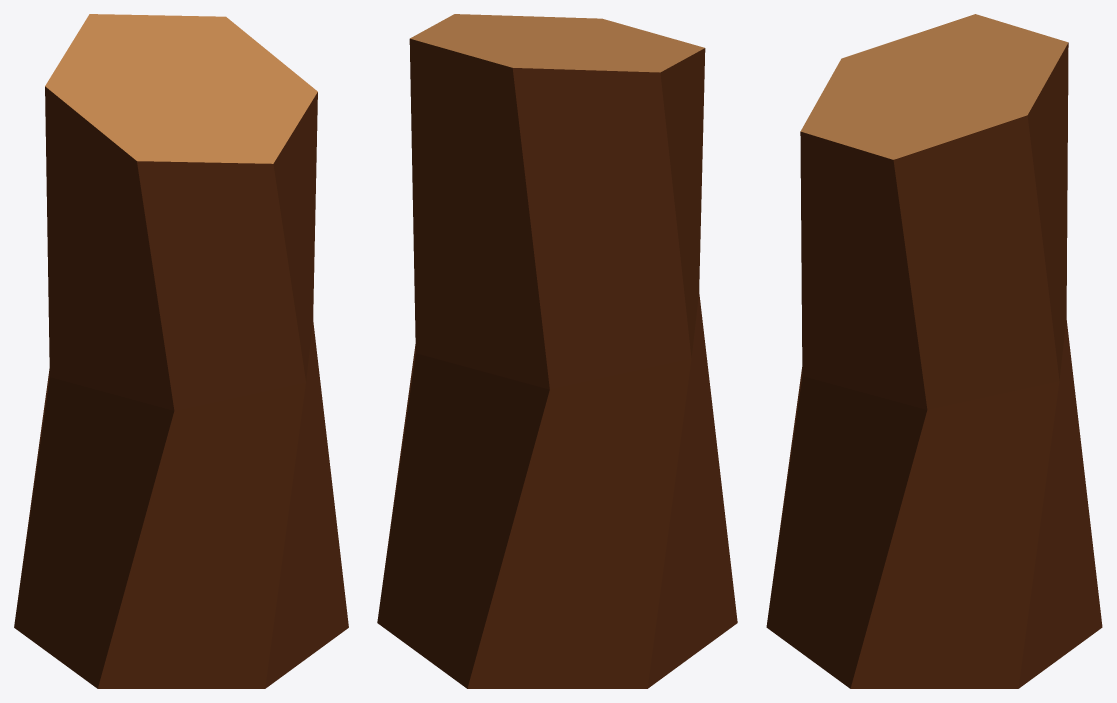
Rendered from TreeStump3.fbx.
3 views of the same model, side by side, from view 1: azimuth 30°, elevation 25°; view 2: azimuth 150°, elevation 25°; view 3: azimuth 270°, elevation 25° (orthographic). The views are drawn at different scales.
Visible parts, largest first — view 1: Cylinder; view 2: Cylinder; view 3: Cylinder.
Part boxes in pixels (<box>): Cylinder: <box>14,14,348,688</box>; Cylinder: <box>377,14,737,688</box>; Cylinder: <box>766,14,1102,688</box>.
Size of the model in its own units: 1.25 by 2.66 by 1.41.
